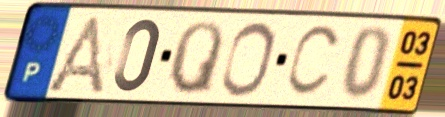0: (338, 23, 394, 104), (111, 16, 163, 95)
A: (42, 12, 108, 97)
C: (282, 22, 344, 100)
O: (218, 19, 278, 100)
Q: (164, 18, 227, 98)
